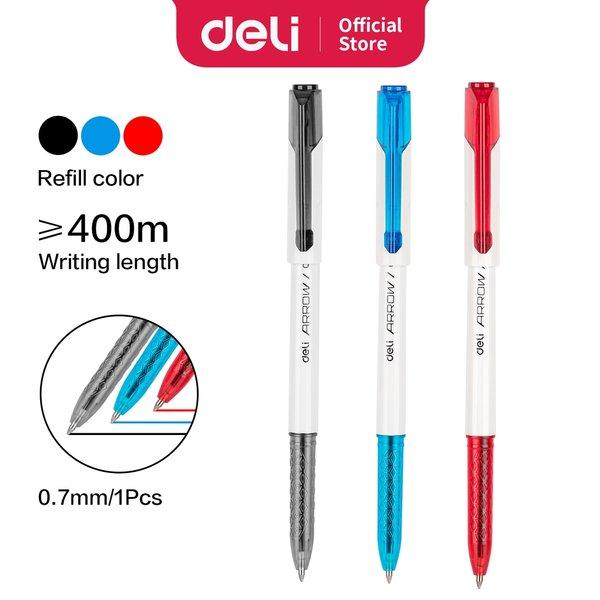Ballpen: (465, 82, 499, 588), (288, 85, 322, 580), (377, 86, 411, 581)
